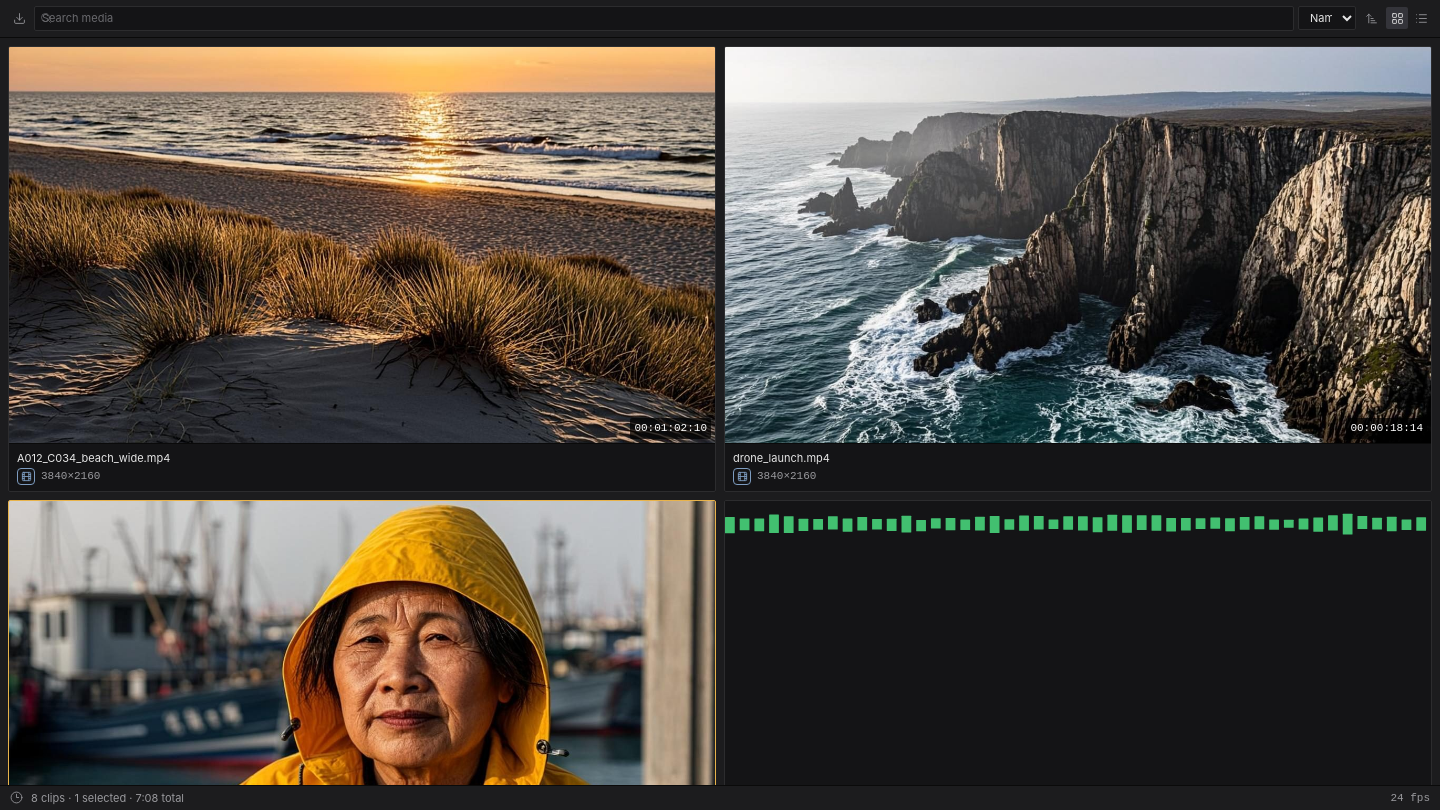
Test: MediaPool (spec 18 §4.2) › search filters by name after the 200 ms debounce + live footer counts
This screenshot has width=1440, height=810.
Type "marina" into the field labelled "Search media" at (664, 18), box [34,6,1294,30]
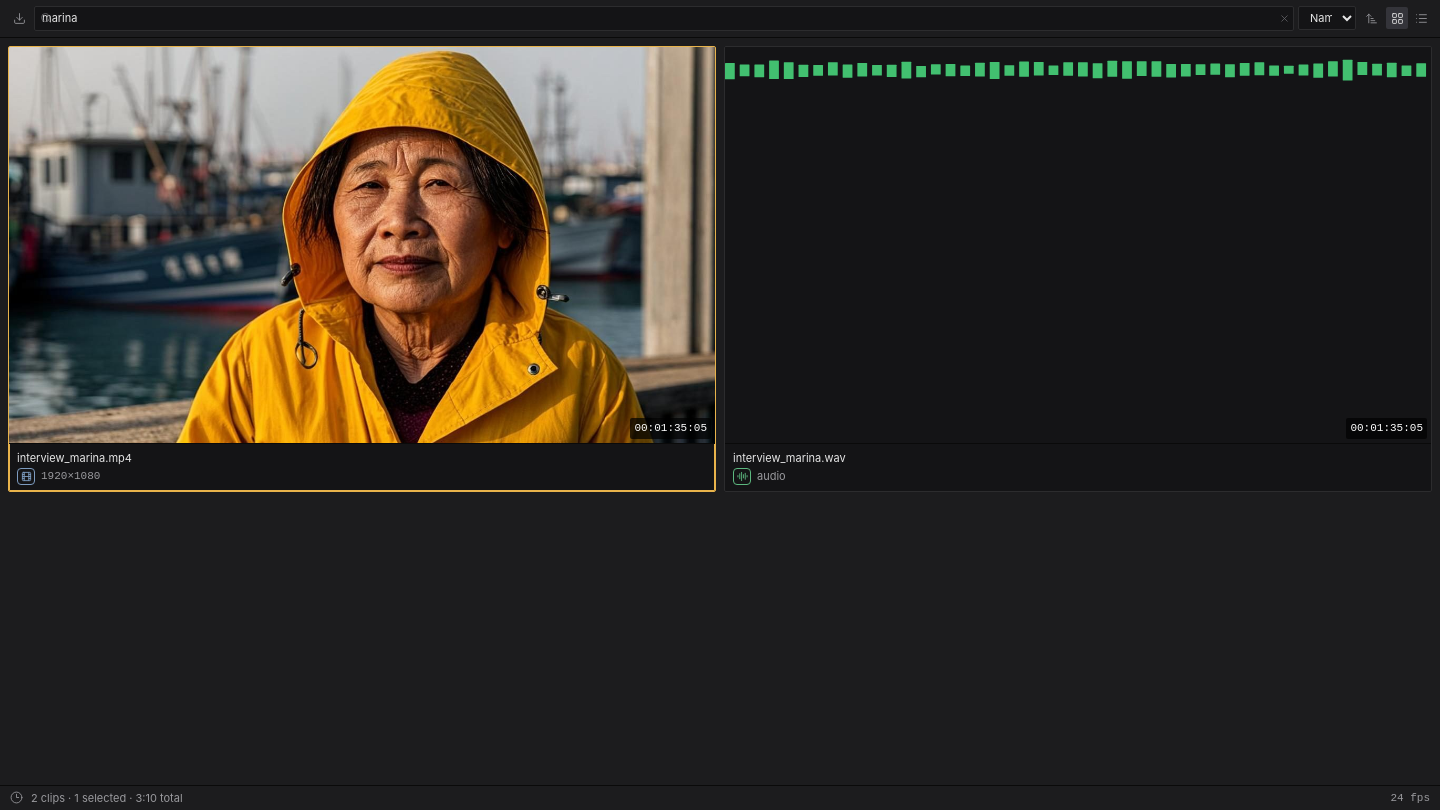
Result: the number of options with test id "shell-mediapool-card" is 2 at [8,46,716,492]; [724,46,1432,492]
Result: the text "2 clips · 1 selected · 3:10 total" is shown at [31,790,183,806]
